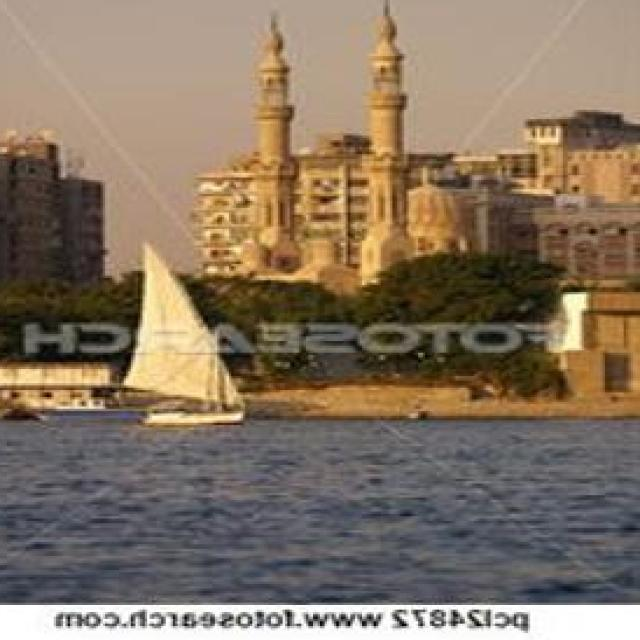sailboat: (120, 237, 252, 429)
